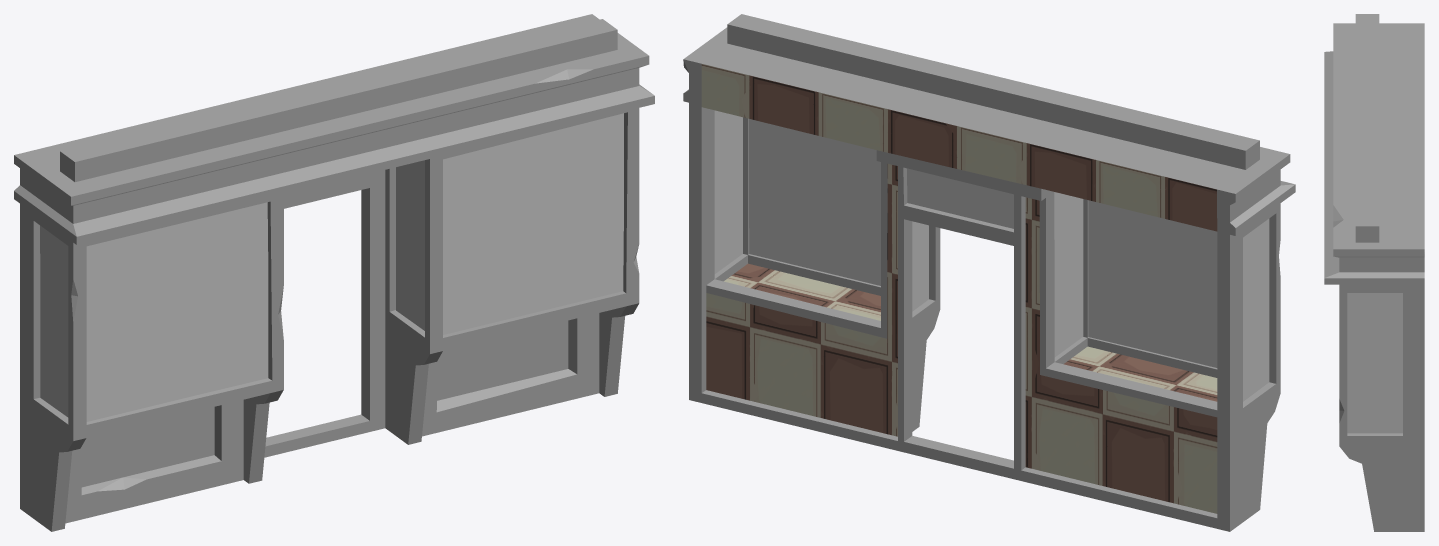
File: SM_Bld_ShopFront_02.fbx
3 views of the same model, side by side, from view 1: azimuth 30°, elevation 25°; view 2: azimuth 150°, elevation 25°; view 3: azimuth 270°, elevation 25° (orthographic). The views are drawn at different scales.
Parts seen in each view (by area): view 1: SM_Bld_ShopFront_02, SM_Bld_ShopFront_02_Glass; view 2: SM_Bld_ShopFront_02, SM_Bld_ShopFront_02_Glass; view 3: SM_Bld_ShopFront_02, SM_Bld_ShopFront_02_Glass.
Boxes of the visible parts, left/top/right/bottom form: SM_Bld_ShopFront_02: left=14, top=14, right=654, bottom=531; SM_Bld_ShopFront_02_Glass: left=40, top=113, right=623, bottom=421; SM_Bld_ShopFront_02: left=683, top=14, right=1295, bottom=531; SM_Bld_ShopFront_02_Glass: left=714, top=110, right=1269, bottom=401; SM_Bld_ShopFront_02: left=1324, top=14, right=1424, bottom=531; SM_Bld_ShopFront_02_Glass: left=1347, top=293, right=1402, bottom=433.
Bounding box in the file's own units: 511 × 317 × 96.06.
